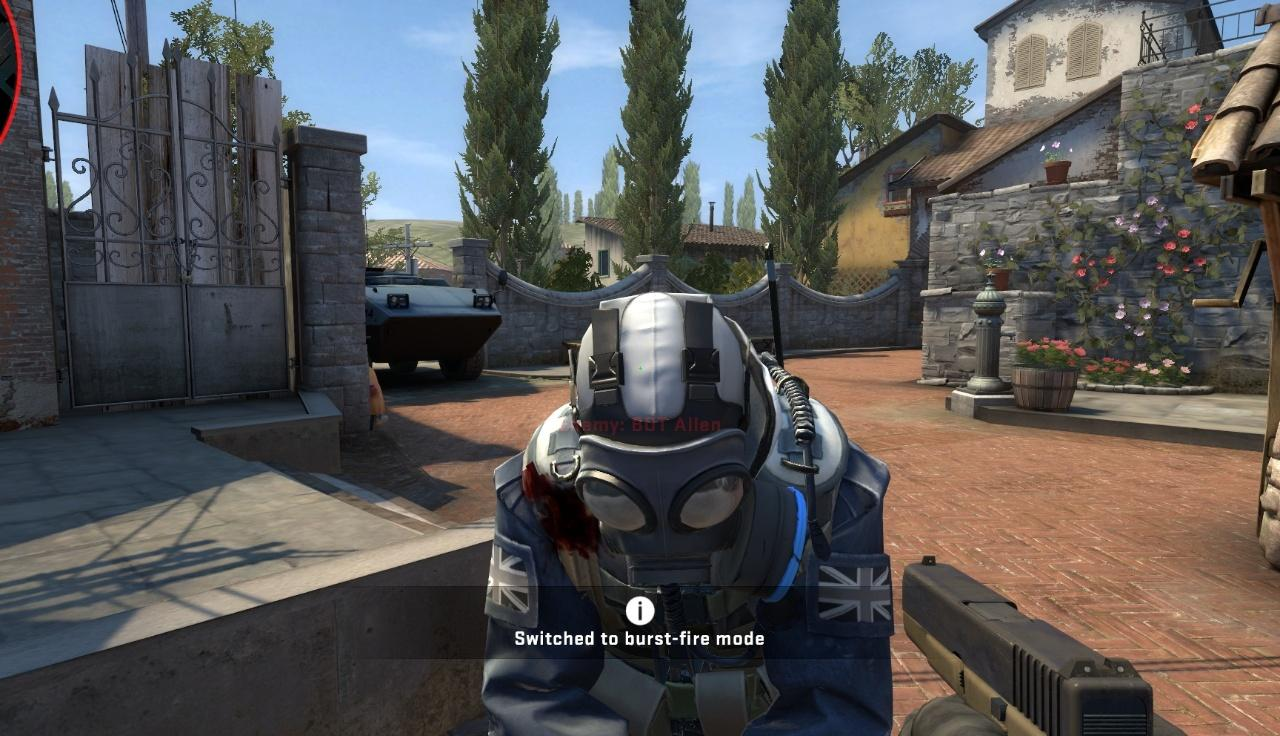ct: (479, 291, 891, 736)
cthead: (576, 291, 756, 565)
pistol: (901, 553, 1192, 736)
